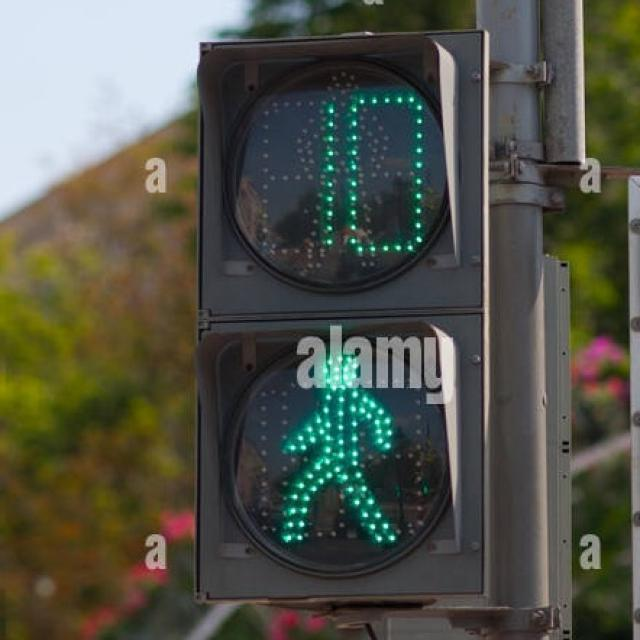geen-crossing: (260, 350, 413, 570)
